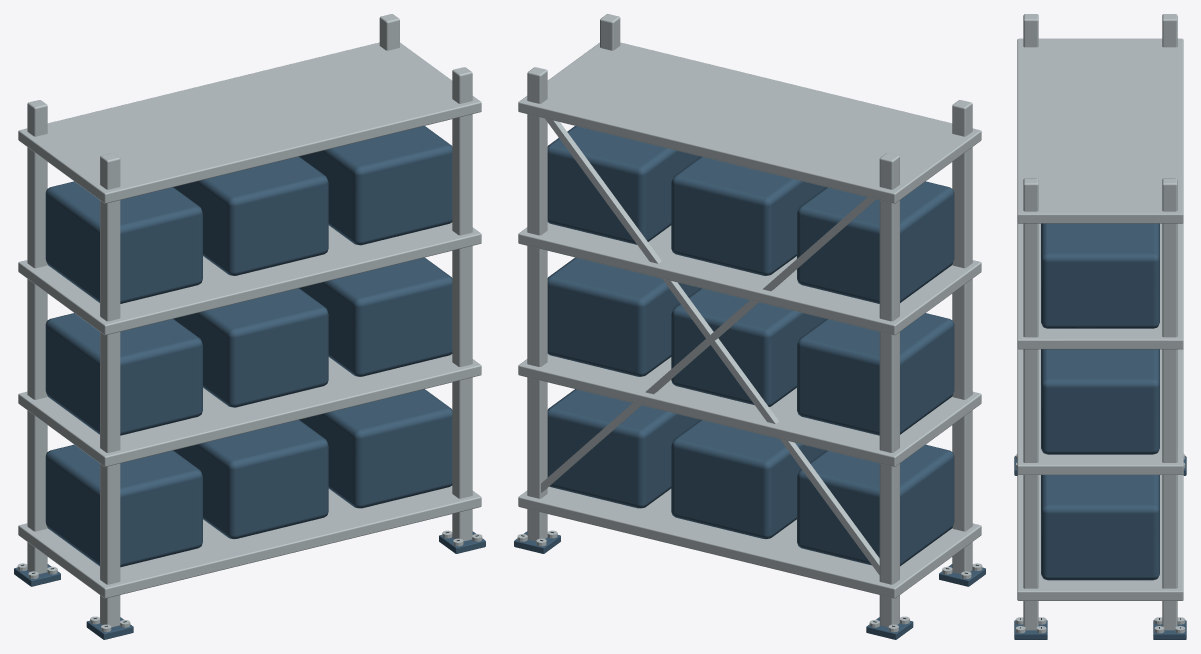
File: container-inspection-and-customs-yard-container-inspec-49f3df1e__29323.glb
3 views of the same model, side by side, from view 1: azimuth 30°, elevation 25°; view 2: azimuth 150°, elevation 25°; view 3: azimuth 270°, elevation 25° (orthographic). The views are drawn at different scales.
Parts seen in each view (by area): view 1: container-inspection-and-customs-yard-freight-sample-shelvin (×2); view 2: container-inspection-and-customs-yard-freight-sample-shelvin (×2); view 3: container-inspection-and-customs-yard-freight-sample-shelvin (×2).
Boxes of the visible parts, left/top/right/bottom form: container-inspection-and-customs-yard-freight-sample-shelvin (×2): left=14, top=14, right=485, bottom=639; container-inspection-and-customs-yard-freight-sample-shelvin (×2): left=514, top=14, right=985, bottom=639; container-inspection-and-customs-yard-freight-sample-shelvin (×2): left=1014, top=14, right=1186, bottom=639.
Size of the model in its own units: 1.52 by 1.8 by 0.62.
